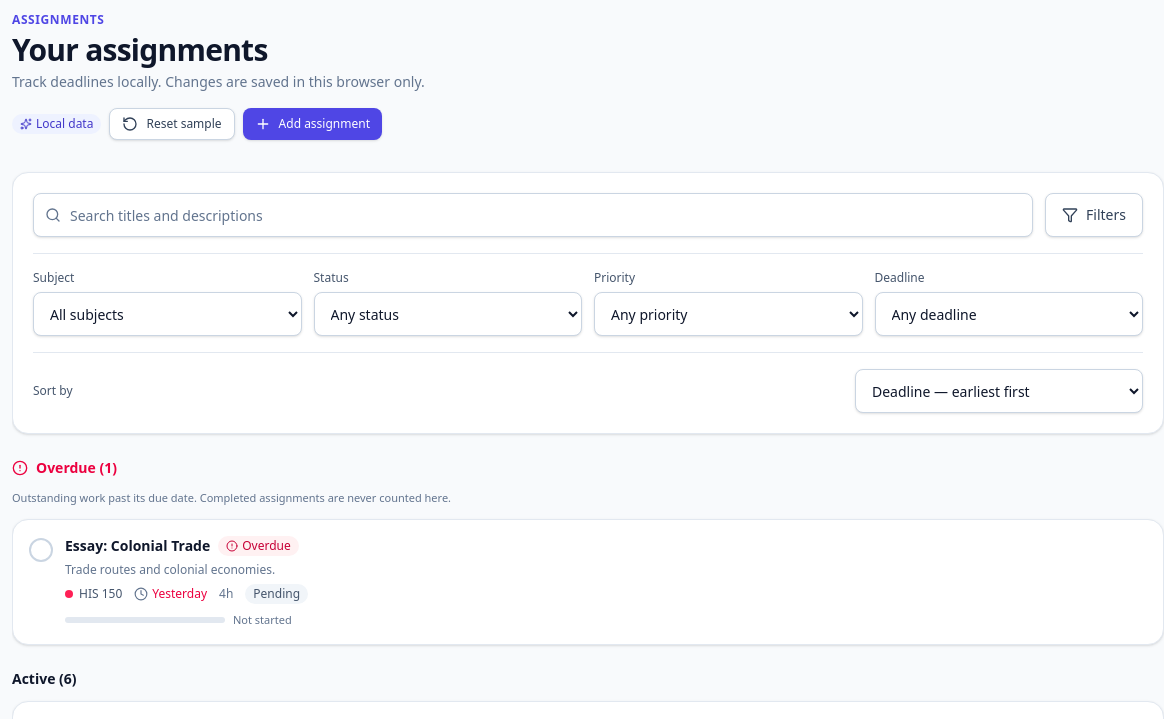
Test: assignments page › shows a no-matches empty state, distinct from having no assignments
The width and height of the screenshot is (1164, 719).
Type "zzzz-no-such-thing" into the search field named "search assignments".
click(533, 215); type("zzzz-no-such-thing")  # box [33,193,1033,237]
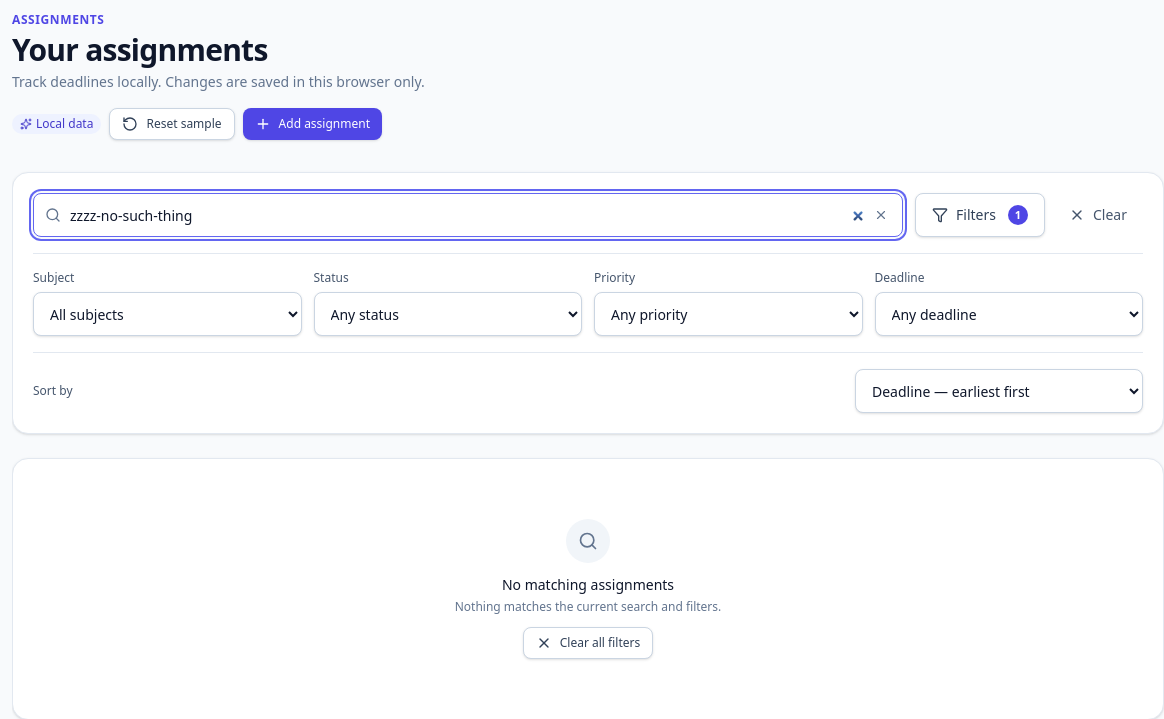
expect the text "No matching assignments" is shown: met, box [502,575,674,594]
expect the button "Clear all filters" is shown: met, box [523,627,653,659]
